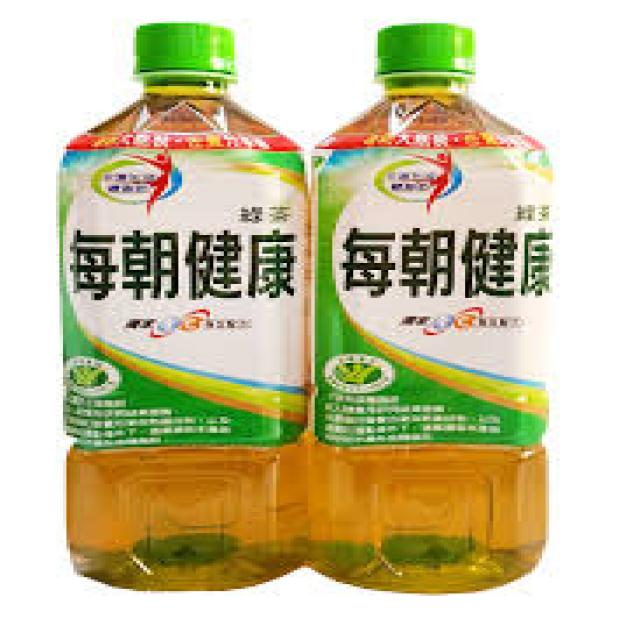MeiChou_GreenTea: (42, 18, 318, 589), (302, 15, 564, 602)
